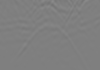hyperbola: (21, 21, 82, 61)
